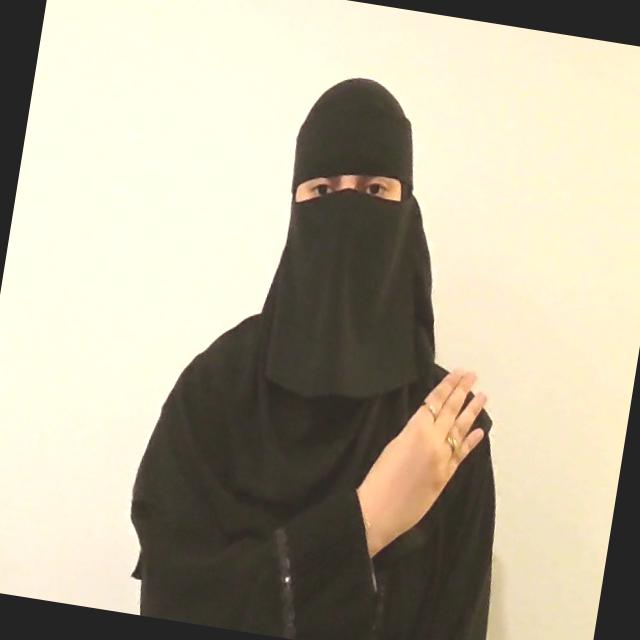result: (346, 353, 495, 572)
